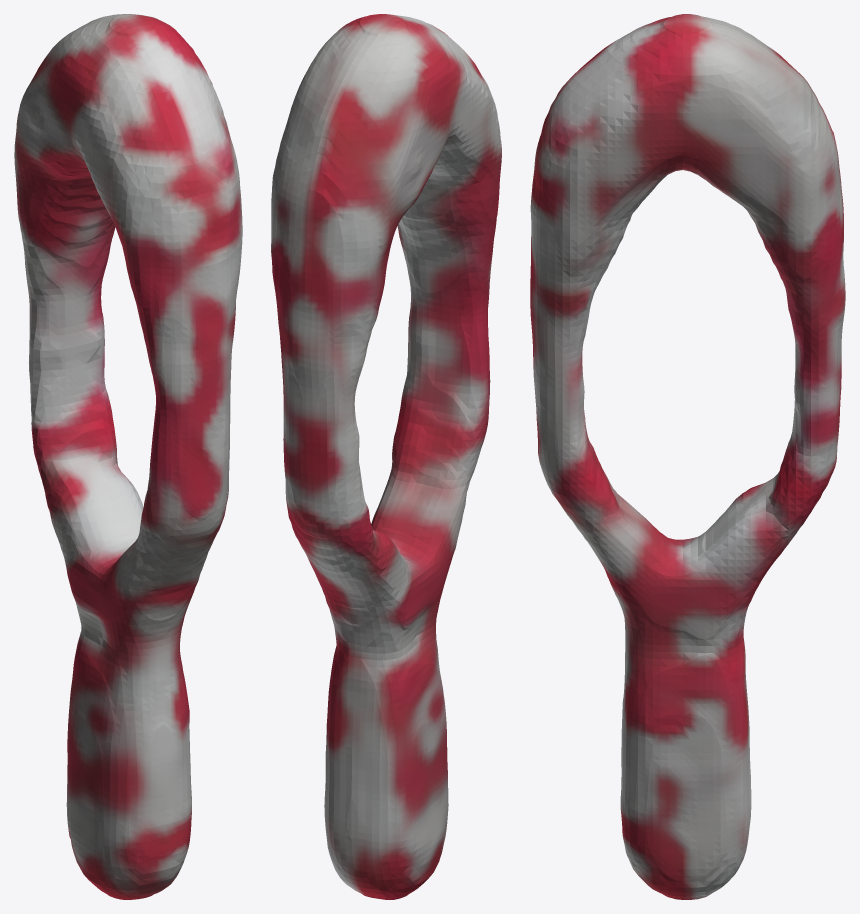
3 renders of one model, left to right at view 1: azimuth 30°, elevation 25°; view 2: azimuth 150°, elevation 25°; view 3: azimuth 270°, elevation 25°, orthographic.
Parts seen in each view (by area): view 1: tmp3m2pb_wc.ply; view 2: tmp3m2pb_wc.ply; view 3: tmp3m2pb_wc.ply.
Boxes of the visible parts, x1=… form: tmp3m2pb_wc.ply: x1=14, y1=14, x2=242, y2=899; tmp3m2pb_wc.ply: x1=271, y1=14, x2=501, y2=899; tmp3m2pb_wc.ply: x1=530, y1=14, x2=845, y2=899.
Size of the model in its own units: 0.294 by 1.98 by 0.6494.
